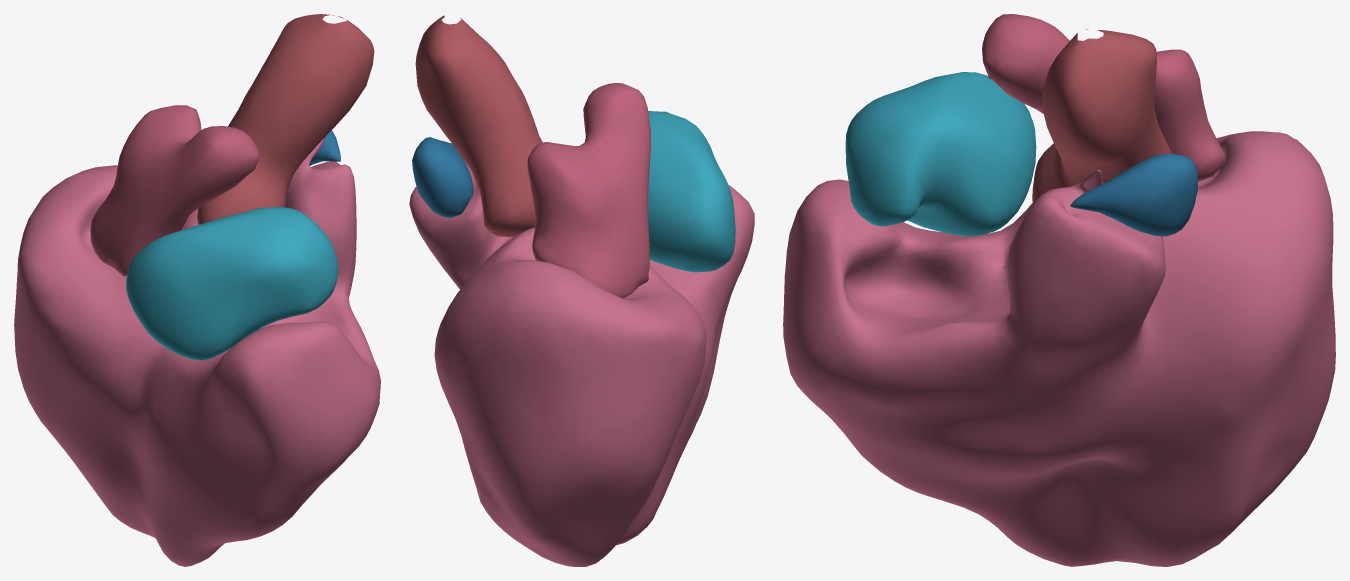
File: frame_28.glb
The picture shows the model from 3 angles, left to right: view 1: azimuth 30°, elevation 25°; view 2: azimuth 150°, elevation 25°; view 3: azimuth 270°, elevation 25°; orthographic projection. The views are drawn at different scales.
Visible parts, largest first — view 1: Renderer Node; view 2: Renderer Node; view 3: Renderer Node.
Part boxes in pixels (x1,y1,x2,y2): Renderer Node: (14,14,380,566); Renderer Node: (409,15,754,566); Renderer Node: (783,14,1335,566).
Bounding box in the file's own units: 102 × 160 × 128.
